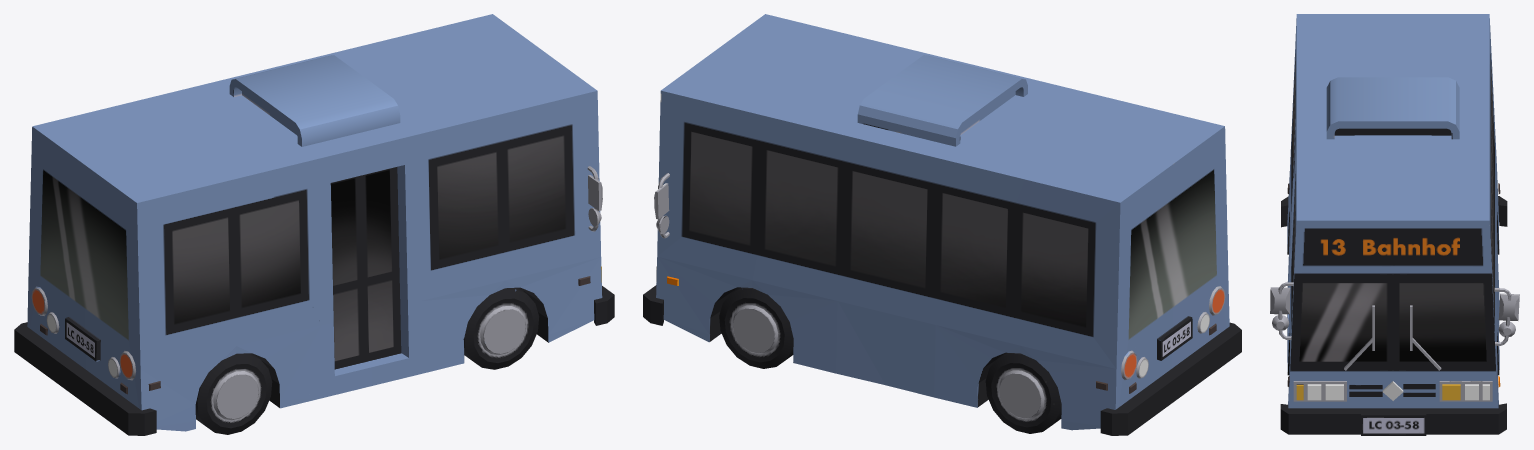
Rendered from car.fbx.
3 views of the same model, side by side, from view 1: azimuth 30°, elevation 25°; view 2: azimuth 150°, elevation 25°; view 3: azimuth 270°, elevation 25° (orthographic). The views are drawn at different scales.
Parts seen in each view (by area): view 1: Car, TopDetail, BumperBack, BackWheels, FrontWheelL, MirrorR, BumperFront; view 2: Car, TopDetail, BumperBack, BackWheels, FrontWheelR, MirrorR, BumperFront; view 3: Car, TopDetail, BumperFront, MirrorR, HeadlightR, HeadlightL, BumperBack, WiperR, WiperL.
Part boxes in pixels (x1,y1,x2,y2): Car: (27,14,602,431); TopDetail: (229,55,400,146); BumperBack: (14,322,156,435); BackWheels: (195,353,272,434); FrontWheelL: (464,287,539,369); MirrorR: (587,166,602,231); BumperFront: (594,286,614,325); Car: (656,14,1229,430); TopDetail: (857,55,1027,146); BumperBack: (1100,322,1241,435); BackWheels: (985,352,1061,433); FrontWheelR: (719,287,793,368); MirrorR: (654,173,669,238); BumperFront: (643,285,663,325); Car: (1287,14,1500,408); TopDetail: (1326,77,1459,139); BumperFront: (1280,403,1506,435); MirrorR: (1270,282,1519,345); HeadlightR: (1439,381,1492,401); HeadlightL: (1293,381,1346,401); BumperBack: (1281,196,1507,227); WiperR: (1410,305,1441,370); WiperL: (1344,305,1374,370).
Bounding box in the file's own units: 492 × 262 × 237.
Materials: 1 (1 with a texture image).
